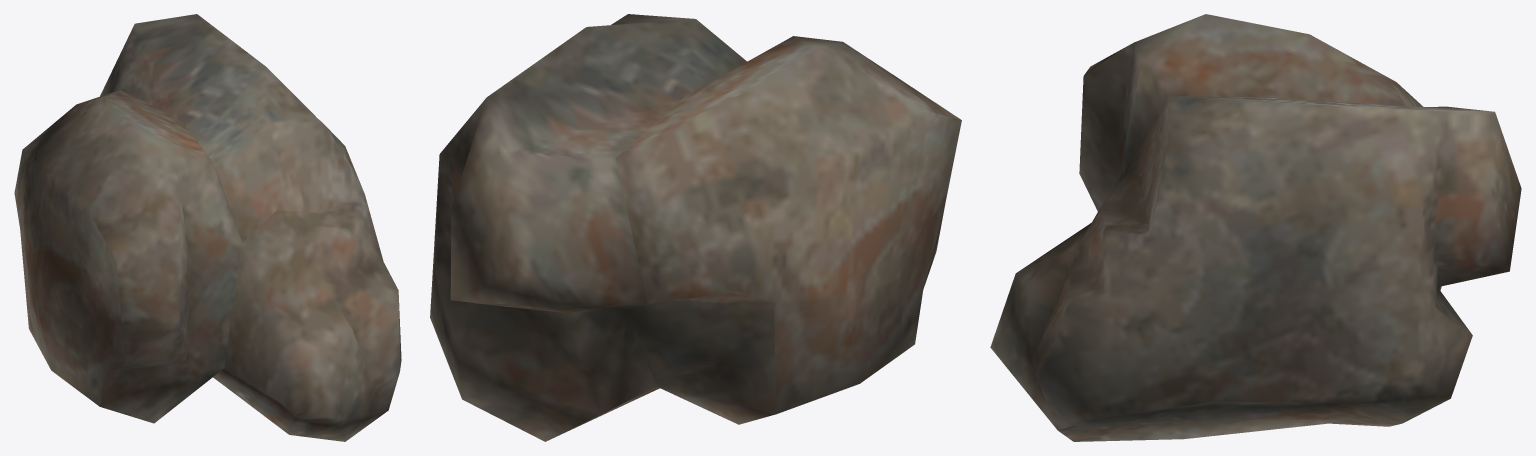
File: bg_rad_kamen_rock02c_sm.obj
The picture shows the model from 3 angles, left to right: view 1: azimuth 30°, elevation 25°; view 2: azimuth 150°, elevation 25°; view 3: azimuth 270°, elevation 25°; orthographic projection. The views are drawn at different scales.
Parts seen in each view (by area): view 1: bg_rad_kamen_rock02c_sm_0; view 2: bg_rad_kamen_rock02c_sm_0; view 3: bg_rad_kamen_rock02c_sm_0.
Boxes of the visible parts, x1,y1,x2,y2 form: bg_rad_kamen_rock02c_sm_0: [14, 14, 401, 441]; bg_rad_kamen_rock02c_sm_0: [430, 14, 961, 441]; bg_rad_kamen_rock02c_sm_0: [990, 14, 1521, 441].
Size of the model in its own units: 0.4297 by 0.4277 by 0.5936.
Materials: 1 (1 with a texture image).
